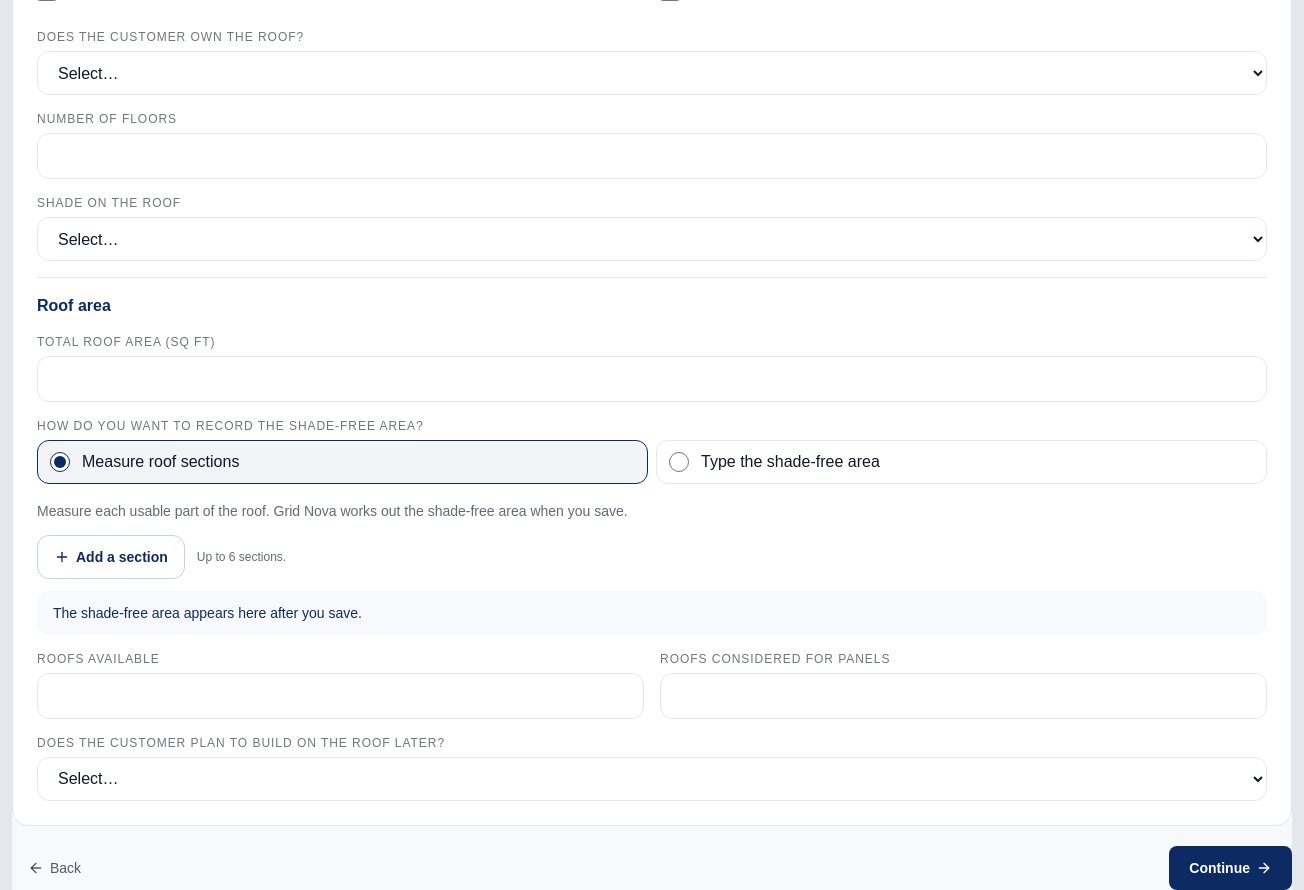
Test case: house step: roof survey › a server derived_field 422 lands on the shade-free field, translated
The width and height of the screenshot is (1304, 890).
(page scrolled)
Click the radio button labelled "Type the shade-free area" at {"x": 679, "y": 462}, box [669, 452, 689, 472]
(page scrolled)
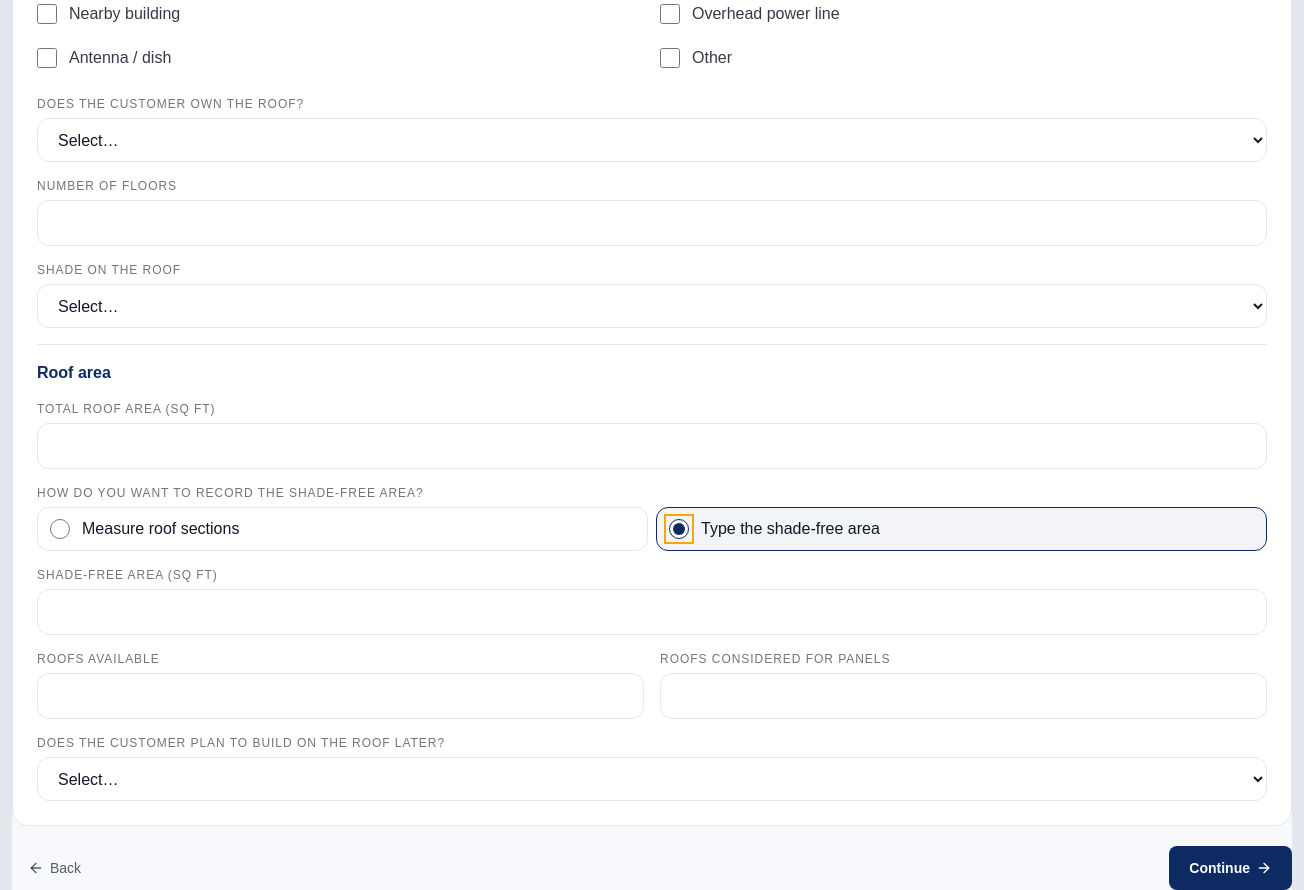
Type "700" into the field labelled "Shade-free area (sq ft)" at {"x": 652, "y": 612}, box [37, 589, 1267, 635]
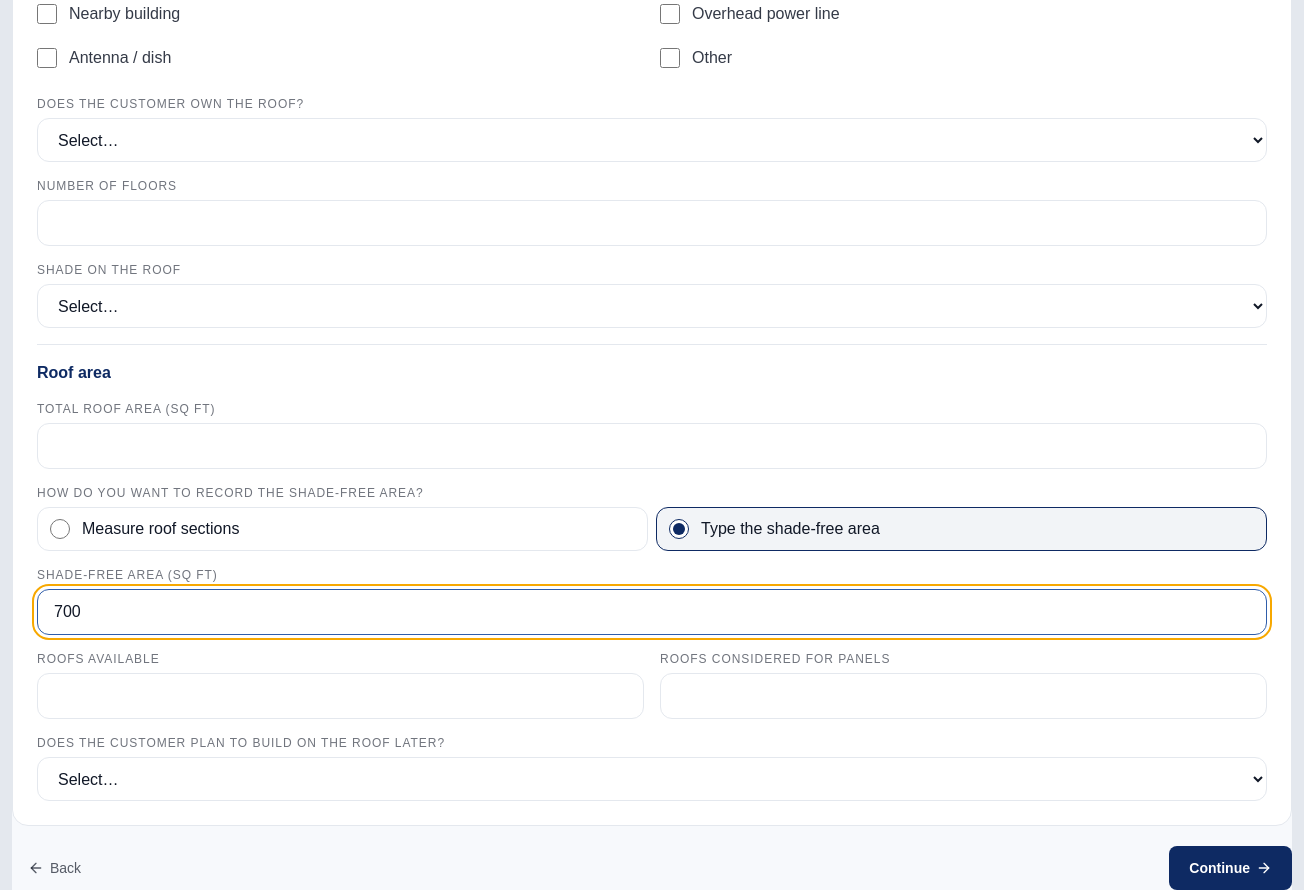
Click the button "Continue" at {"x": 1231, "y": 868}, box [1169, 846, 1292, 889]
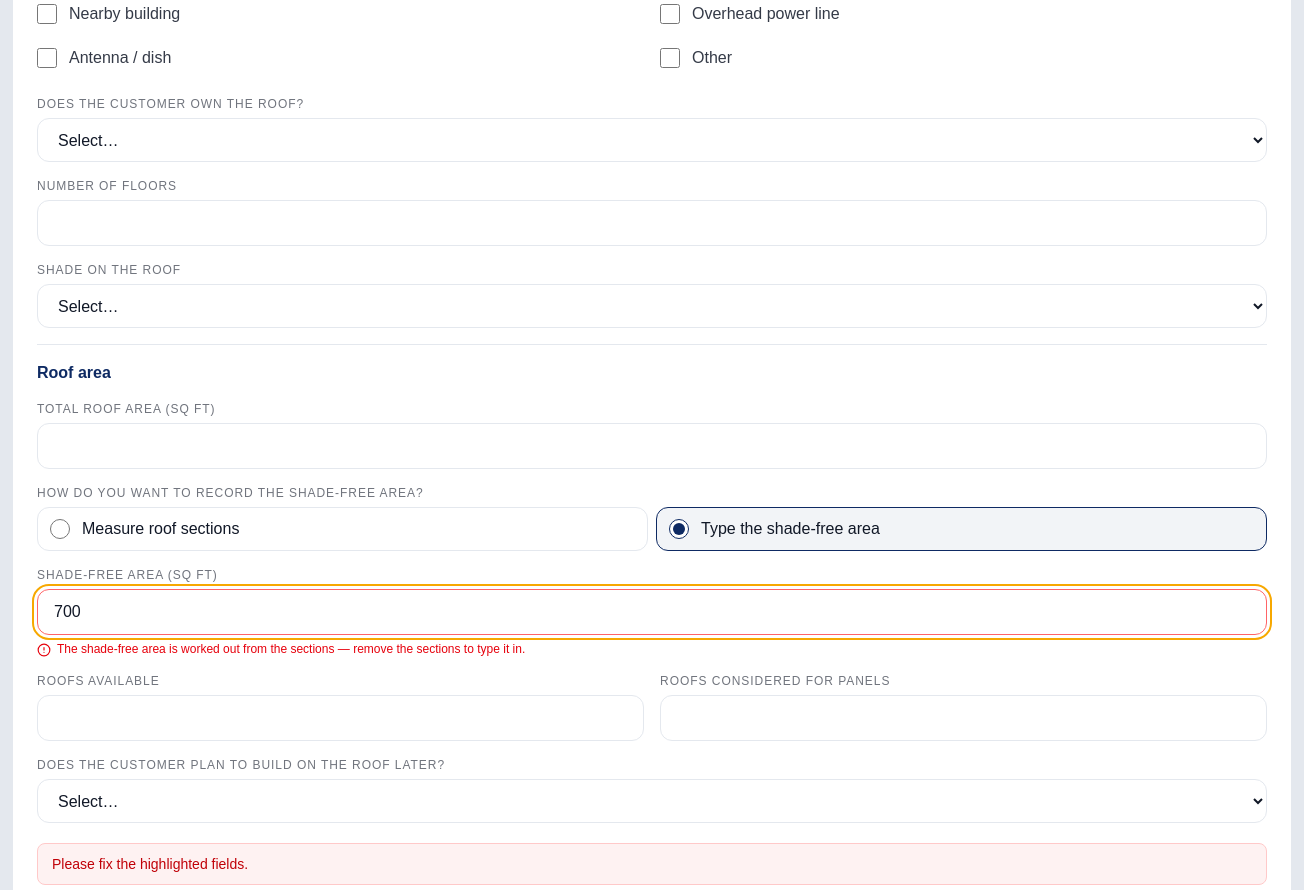
Expected: the text "The shade-free area is worked out from the sections — remove the sections to type it in." is shown, [57, 642, 525, 656]
